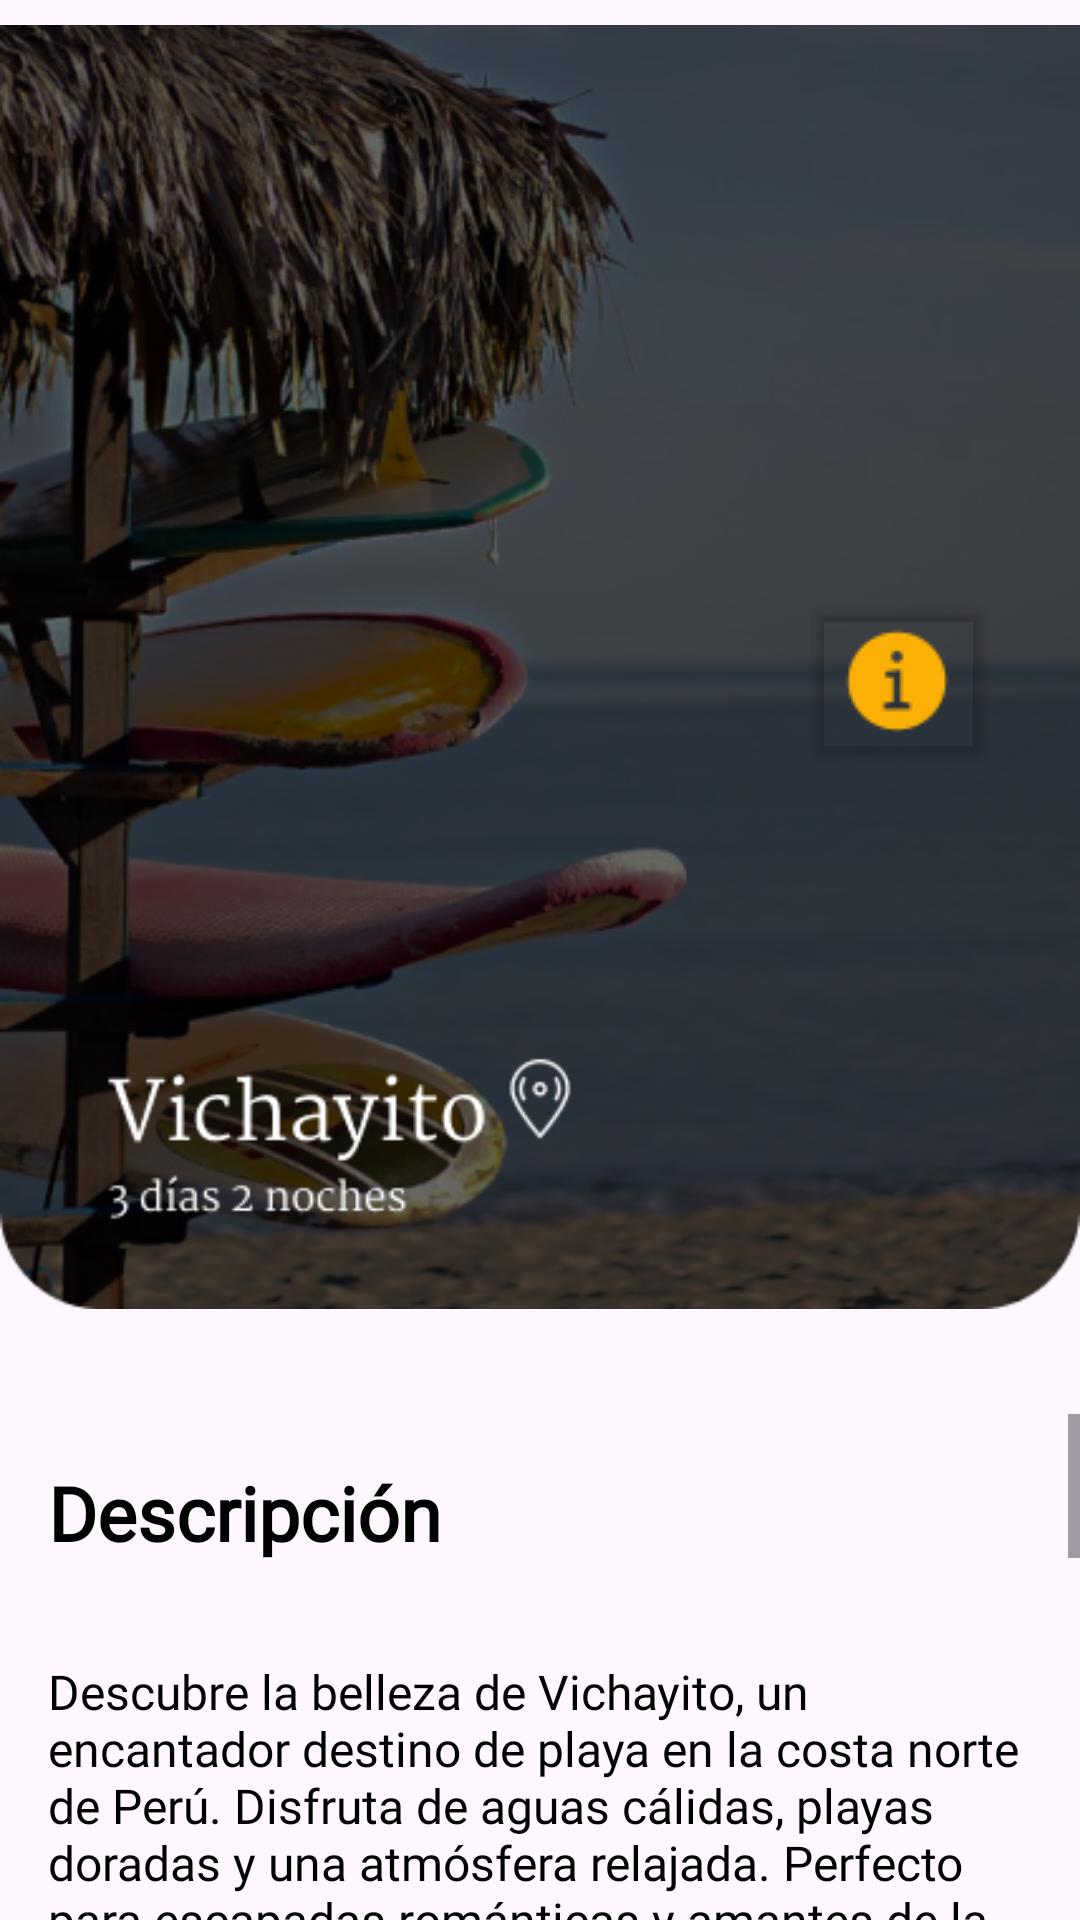

Icon bounding boxes for this 1080 x 1920 phone screenshot, format (x1, y1, x2, y2):
info: (846, 629, 948, 732)
